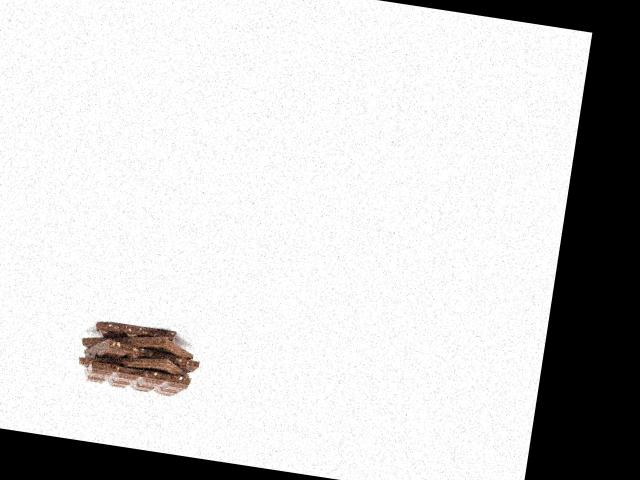chocolate: (81, 311, 197, 372)
